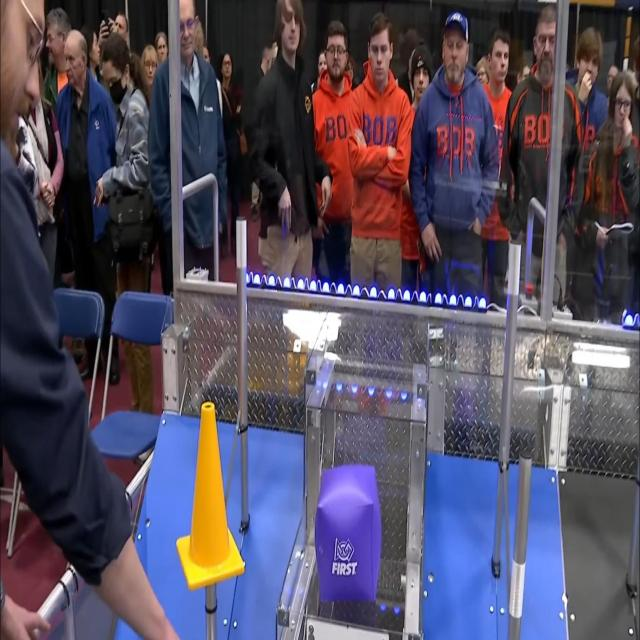frc_cone: (177, 398, 241, 586)
frc_cube: (316, 460, 382, 603)
